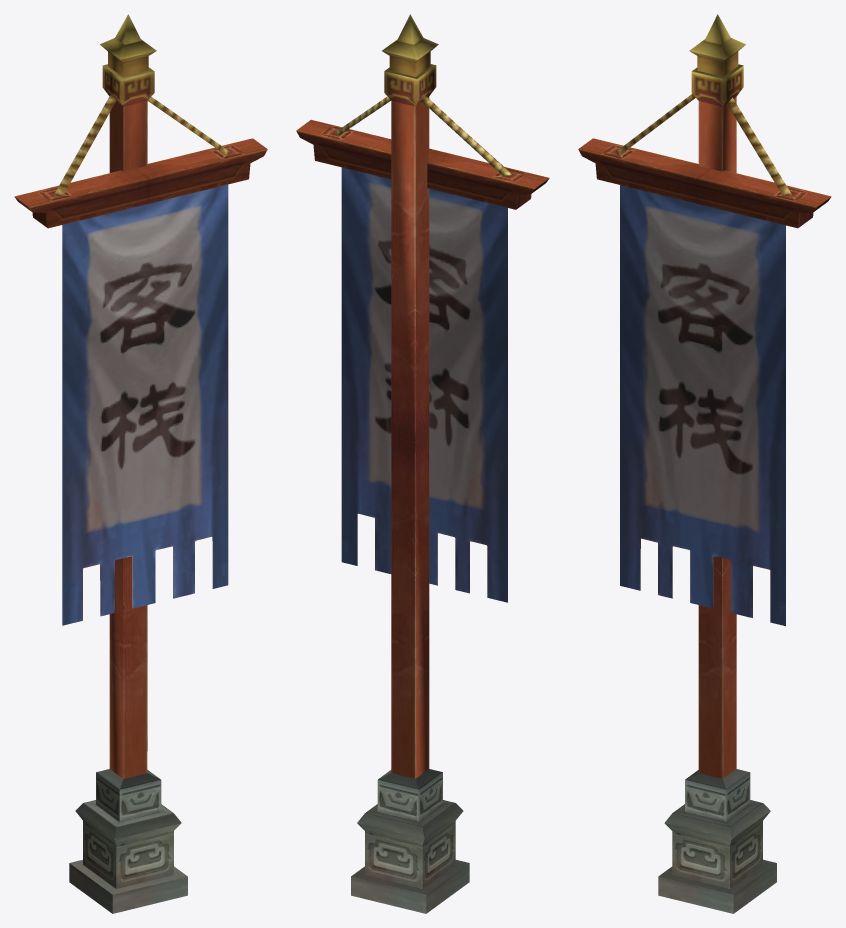
File: szc_building_jiulou18_5a_qizi.FBX
The picture shows the model from 3 angles, left to right: view 1: azimuth 30°, elevation 25°; view 2: azimuth 150°, elevation 25°; view 3: azimuth 330°, elevation 25°; orthographic projection.
Visible parts, largest first — view 1: szc_building_jiulou18_5a_qizi; view 2: szc_building_jiulou18_5a_qizi; view 3: szc_building_jiulou18_5a_qizi.
Boxes of the visible parts, box(x1,y1,x2,y2) form: szc_building_jiulou18_5a_qizi: box(14, 14, 267, 913); szc_building_jiulou18_5a_qizi: box(296, 14, 549, 913); szc_building_jiulou18_5a_qizi: box(578, 14, 831, 913).
Bounding box in the file's own units: 122 × 426 × 38.31.
